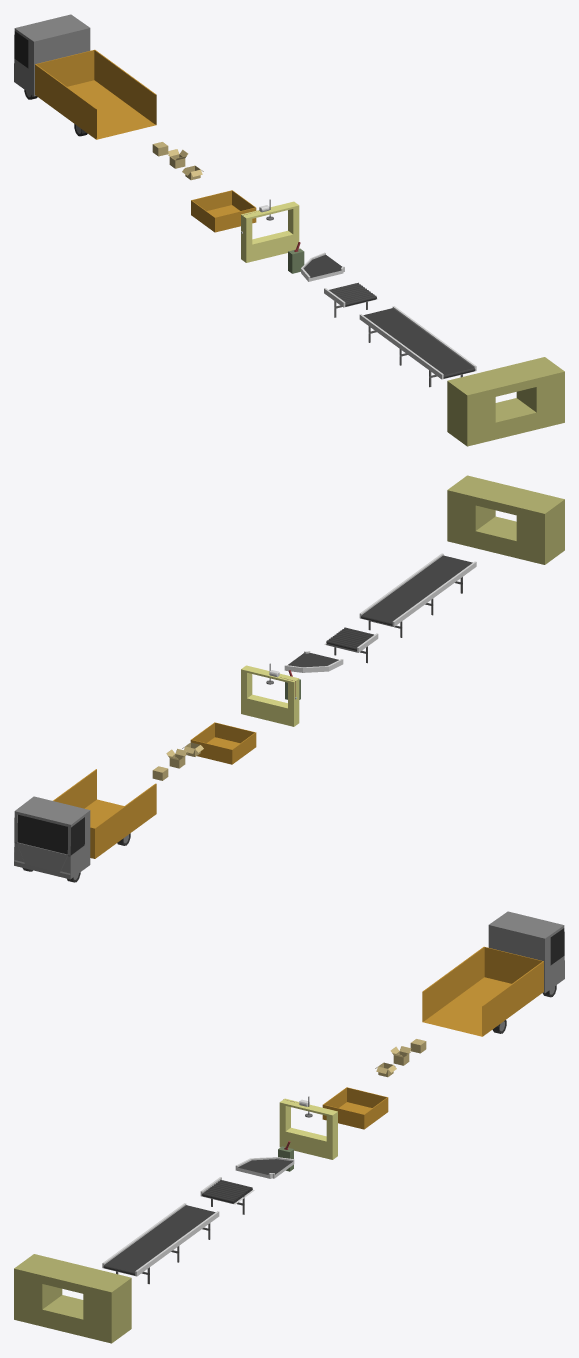
File: models.fbx
The picture shows the model from 3 angles, top to bottom: view 1: azimuth 30°, elevation 25°; view 2: azimuth 150°, elevation 25°; view 3: azimuth 330°, elevation 25°; orthographic projection.
Visible parts, largest first — view 1: caminhao.002, maquina01.001, esteiraLona.001, suporteCarimbo.001, caixa.001, esteira.001, esteiraCurva.001; view 2: caminhao.002, maquina01.001, esteiraLona.001, suporteCarimbo.001, caixa.001, esteira.001, esteiraCurva.001; view 3: caminhao.002, maquina01.001, esteiraLona.001, suporteCarimbo.001, caixa.001, esteira.001, esteiraCurva.001.
Boxes of the visible parts, x1,y1,x2,y2 form: caminhao.002: (14,14,156,139); maquina01.001: (447,357,564,446); esteiraLona.001: (363,308,473,374); suporteCarimbo.001: (241,201,299,262); caixa.001: (191,190,256,232); esteira.001: (359,306,476,379); esteiraCurva.001: (301,252,344,281); caminhao.002: (14,769,156,882); maquina01.001: (447,475,564,564); esteiraLona.001: (362,555,472,622); suporteCarimbo.001: (241,665,299,726); caixa.001: (190,722,256,764); esteira.001: (359,553,476,626); esteiraCurva.001: (284,651,343,672); caminhao.002: (422,911,564,1036); maquina01.001: (14,1254,131,1343); esteiraLona.001: (105,1205,215,1271); suporteCarimbo.001: (279,1098,337,1159); caixa.001: (322,1087,388,1129); esteira.001: (102,1203,219,1276); esteiraCurva.001: (235,1157,294,1178).
Size of the model in its own units: 562 by 371 by 4722.
